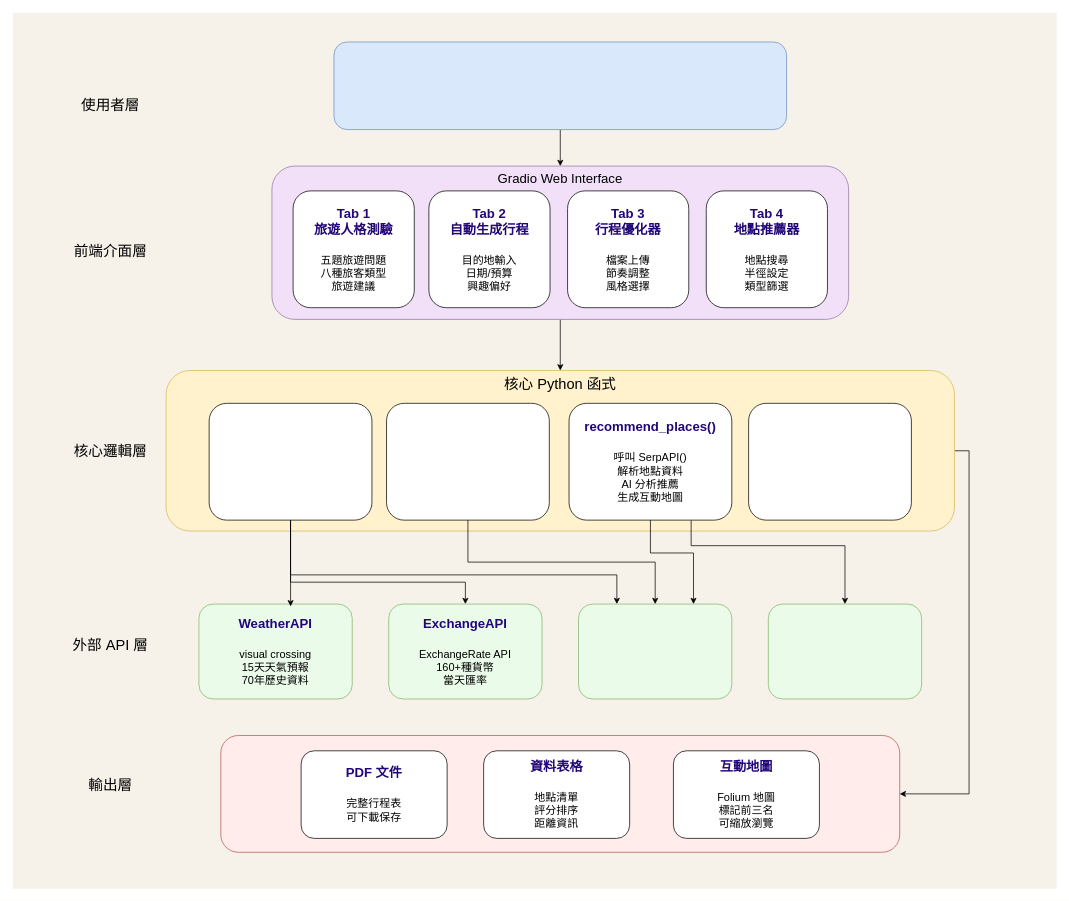
Some shapes in this 1069 by 901 pixel diagram are drawn without their labels. Each missing label, with the centre of its shape:
"Gemini AI 行程生成 內容優化" belongs at [655,651].
"generate_itinerary() 整合天氣 API 資料 整合匯率 API 資料 呼叫 Genmini API 生成PDF" belongs at [290,461].
"optimize_itinerary() 讀取上傳檔案 解析行程內容 AI 優化建議 生成 PDF" belongs at [467,461].
"SerpAPI Google Maps Search 地點搜尋 評分資訊" belongs at [845,651].
"WeasyPrint 渲染 PDF Markdown 轉 HTML HTML 轉PDF 中文字體支援 排版優化" belongs at [829,461].
"使用者 分析旅遊需求、下載行程PDF、 上傳行程優化、 瀏覽地圖" belongs at [560,85].
